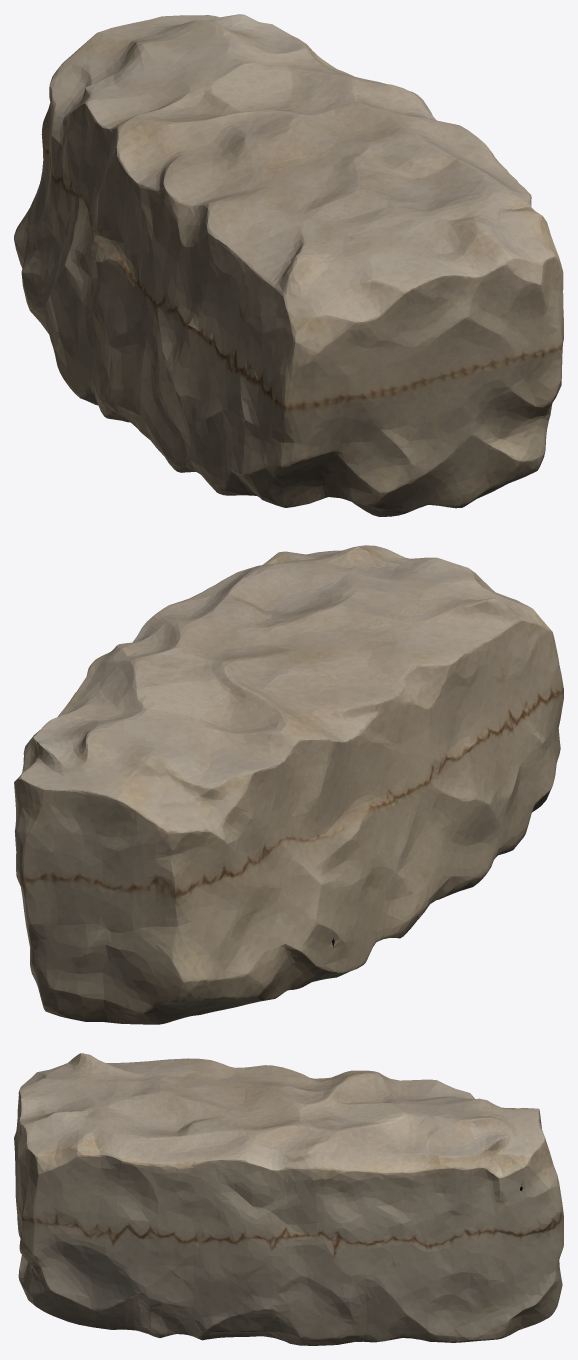
3 renders of one model, top to bottom at view 1: azimuth 30°, elevation 25°; view 2: azimuth 150°, elevation 25°; view 3: azimuth 270°, elevation 25°, orthographic. The views are drawn at different scales.
Parts seen in each view (by area): view 1: world; view 2: world; view 3: world.
Part boxes in pixels (x1,y1,x2,y2): world: [14, 14, 563, 516]; world: [14, 545, 563, 1024]; world: [14, 1053, 563, 1345].
Bounding box in the file's own units: 0.1595 × 0.128 × 0.3.
1 material, 1 textured.
